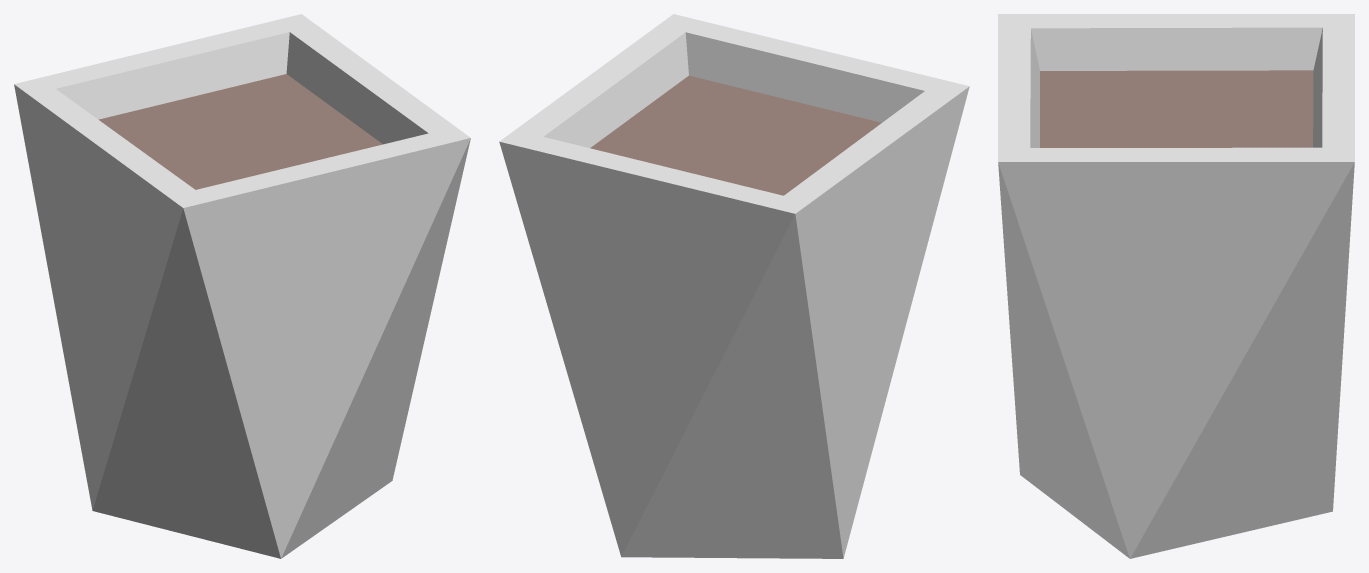
File: flowerpot_035.fbx
3 renders of one model, left to right at view 1: azimuth 30°, elevation 25°; view 2: azimuth 150°, elevation 25°; view 3: azimuth 270°, elevation 25°, orthographic. The views are drawn at different scales.
Parts seen in each view (by area): view 1: flowerpot_035; view 2: flowerpot_035; view 3: flowerpot_035.
Part boxes in pixels (x1,y1,x2,y2): flowerpot_035: [14, 14, 470, 558]; flowerpot_035: [499, 14, 969, 558]; flowerpot_035: [998, 14, 1354, 558].
Bounding box in the file's own units: 29.14 × 29.72 × 37.25.
